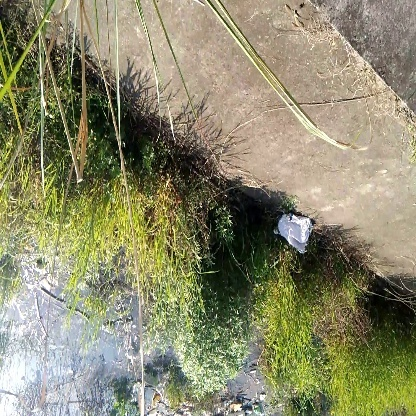plastic-bag: (270, 209, 318, 260)
